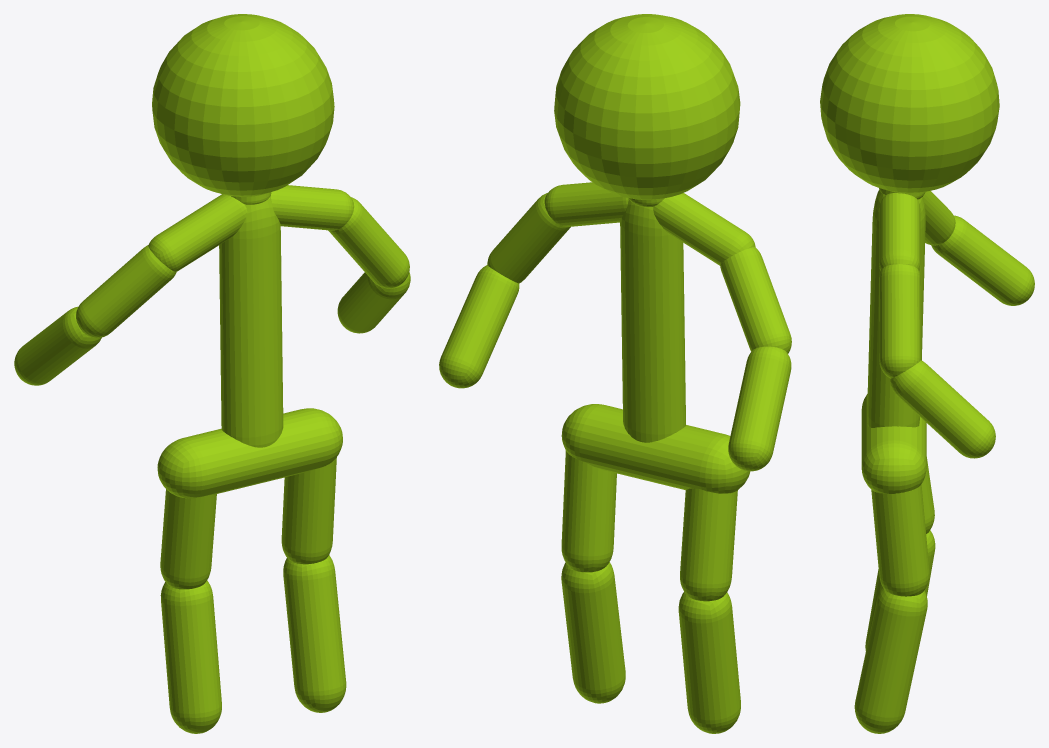
The model's file is Stickman_000009.obj.
3 renders of one model, left to right at view 1: azimuth 30°, elevation 25°; view 2: azimuth 150°, elevation 25°; view 3: azimuth 270°, elevation 25°, orthographic. The views are drawn at different scales.
Parts seen in each view (by area): view 1: Head_Sphere.001, Body_Roundcube.002, Hip_Roundcube.005, LowerLegLeft_Roundcube.013, LowerLegRight_Roundcube.011, UpperLegLeft_Roundcube.012, UpperLegRight_Roundcube.010, UpperArmRight_Roundcube.015, ShoulderRight_Roundcube.014, UpperArmLeft_Roundcube.018, LowerArmRight_Roundcube.016, ShoulderLeft_Roundcube.017 (+1 smaller); view 2: Head_Sphere.001, Body_Roundcube.002, Hip_Roundcube.005, LowerLegRight_Roundcube.011, LowerLegLeft_Roundcube.013, UpperLegRight_Roundcube.010, UpperLegLeft_Roundcube.012, LowerArmRight_Roundcube.016, LowerArmLeft_Roundcube.019, UpperArmRight_Roundcube.015, ShoulderRight_Roundcube.014, UpperArmLeft_Roundcube.018 (+1 smaller); view 3: Head_Sphere.001, LowerLegLeft_Roundcube.013, UpperLegLeft_Roundcube.012, LowerArmLeft_Roundcube.019, UpperArmLeft_Roundcube.018, Hip_Roundcube.005, LowerArmRight_Roundcube.016, Body_Roundcube.002, ShoulderLeft_Roundcube.017, UpperArmRight_Roundcube.015, LowerLegRight_Roundcube.011, UpperLegRight_Roundcube.010.
Boxes of the visible parts, bbox=[...] form: Head_Sphere.001: bbox=[152, 14, 334, 196]; Body_Roundcube.002: bbox=[219, 196, 283, 447]; Hip_Roundcube.005: bbox=[157, 408, 342, 498]; LowerLegLeft_Roundcube.013: bbox=[283, 555, 346, 712]; LowerLegRight_Roundcube.011: bbox=[160, 580, 221, 733]; UpperLegLeft_Roundcube.012: bbox=[281, 457, 336, 564]; UpperLegRight_Roundcube.010: bbox=[160, 489, 216, 589]; UpperArmRight_Roundcube.015: bbox=[76, 245, 176, 337]; ShoulderRight_Roundcube.014: bbox=[148, 194, 247, 271]; UpperArmLeft_Roundcube.018: bbox=[328, 197, 409, 288]; LowerArmRight_Roundcube.016: bbox=[14, 306, 101, 385]; ShoulderLeft_Roundcube.017: bbox=[270, 185, 354, 230]; Head_Sphere.001: bbox=[554, 14, 740, 199]; Body_Roundcube.002: bbox=[620, 199, 685, 442]; Hip_Roundcube.005: bbox=[561, 404, 750, 493]; LowerLegRight_Roundcube.011: bbox=[678, 592, 740, 733]; LowerLegLeft_Roundcube.013: bbox=[561, 562, 625, 703]; UpperLegRight_Roundcube.010: bbox=[680, 488, 737, 601]; UpperLegLeft_Roundcube.012: bbox=[561, 450, 616, 572]; LowerArmRight_Roundcube.016: bbox=[728, 346, 791, 471]; LowerArmLeft_Roundcube.019: bbox=[439, 265, 519, 388]; UpperArmRight_Roundcube.015: bbox=[720, 247, 791, 353]; ShoulderRight_Roundcube.014: bbox=[653, 193, 755, 265]; UpperArmLeft_Roundcube.018: bbox=[487, 193, 570, 283]; Head_Sphere.001: bbox=[820, 14, 999, 193]; LowerLegLeft_Roundcube.013: bbox=[854, 587, 927, 733]; UpperLegLeft_Roundcube.012: bbox=[871, 484, 929, 596]; LowerArmLeft_Roundcube.019: bbox=[890, 360, 995, 458]; UpperArmLeft_Roundcube.018: bbox=[879, 264, 920, 378]; Hip_Roundcube.005: bbox=[861, 394, 926, 493]; LowerArmRight_Roundcube.016: bbox=[931, 215, 1034, 305]; Body_Roundcube.002: bbox=[867, 190, 925, 427]; ShoulderLeft_Roundcube.017: bbox=[879, 193, 920, 270]; UpperArmRight_Roundcube.015: bbox=[923, 191, 955, 245]; LowerLegRight_Roundcube.011: bbox=[865, 530, 935, 650]; UpperLegRight_Roundcube.010: bbox=[921, 457, 934, 533].
Bounding box in the file's own units: 5.36 × 10.38 × 2.97.
